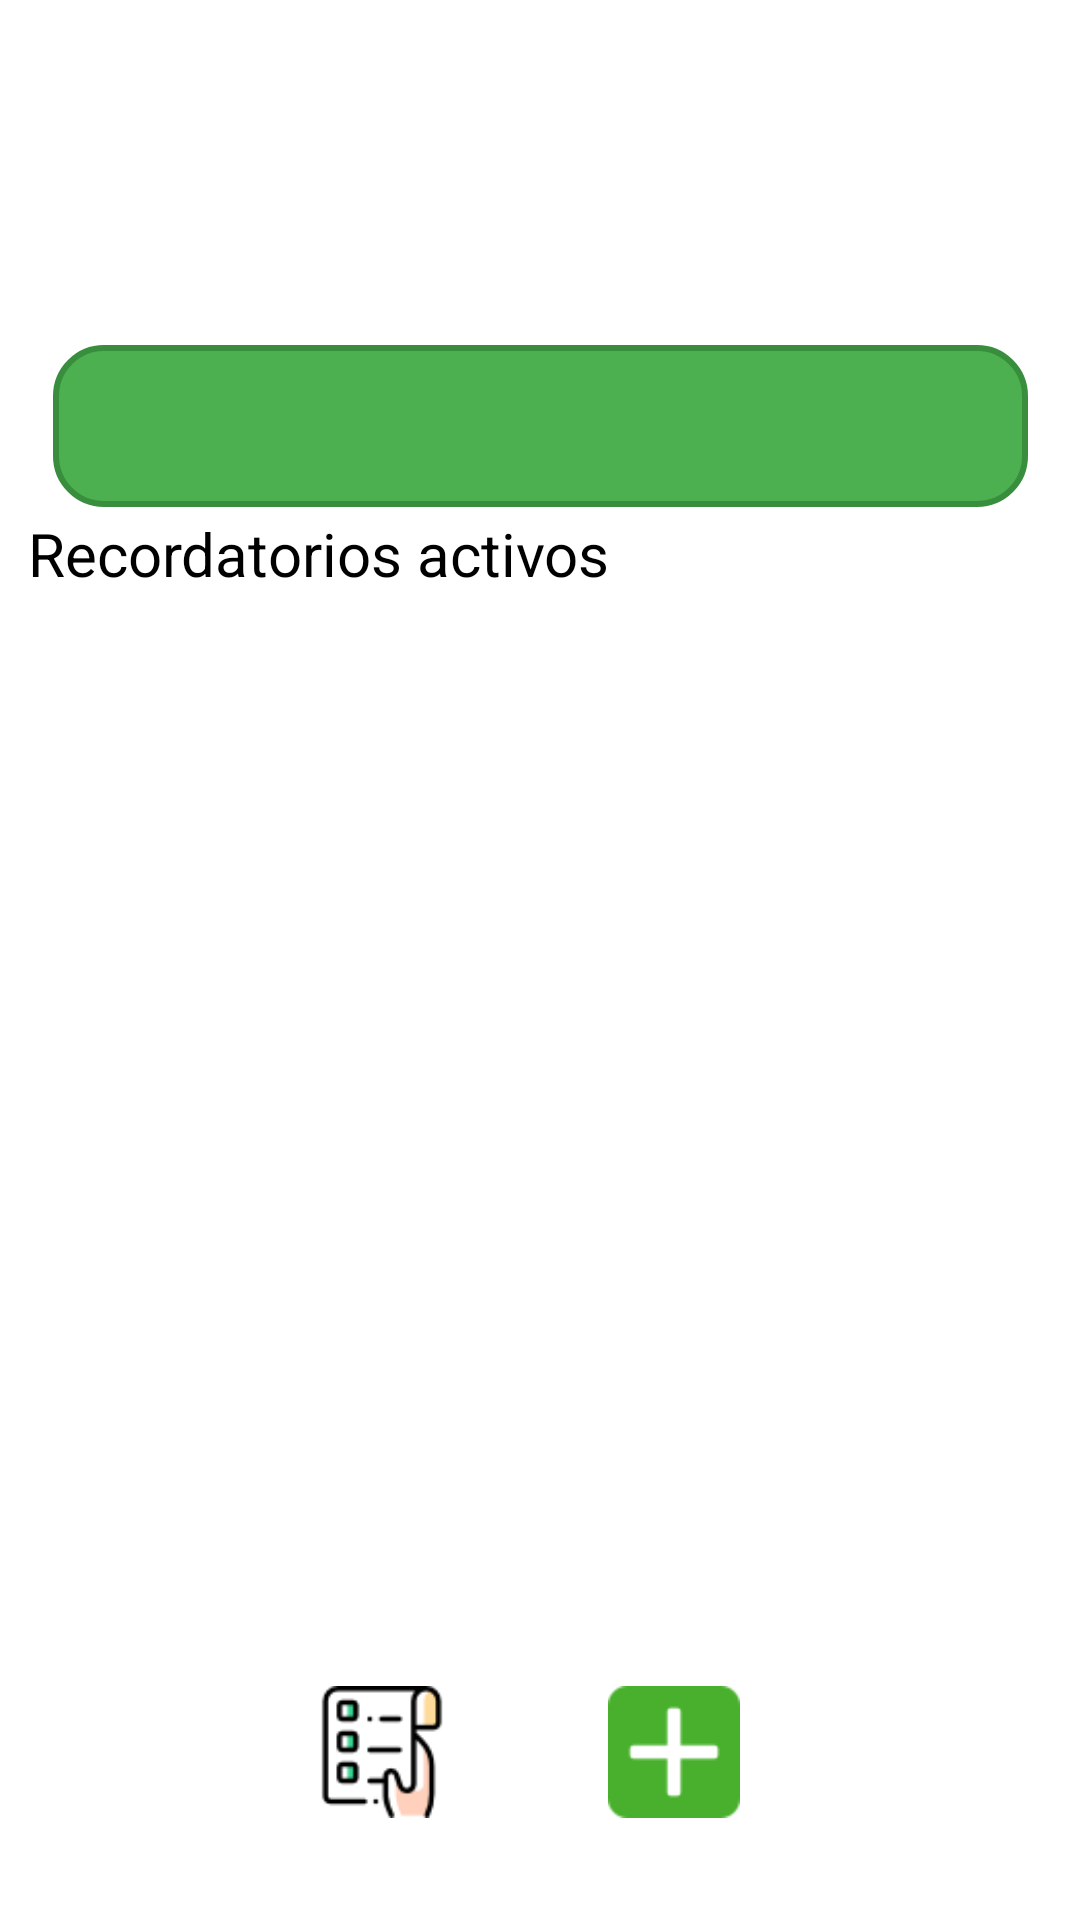

Screen size 1080px×1920px. Icon name, then its box in pixels as (x1, y1, x2, y2):
agregar: (608, 1686, 740, 1818)
registros: (321, 1686, 443, 1818)
